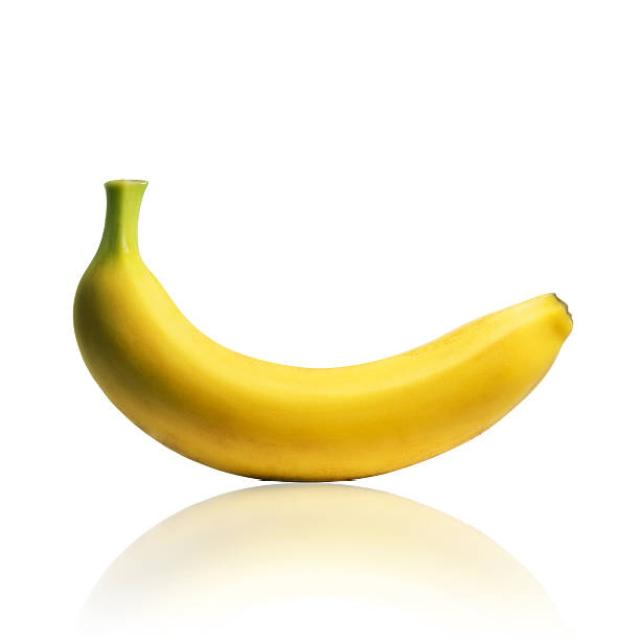banana: (74, 176, 574, 483)
